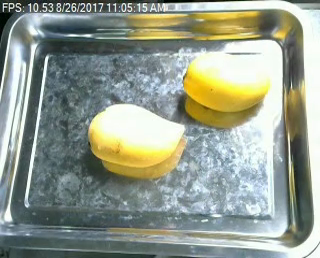Mango: (87, 100, 191, 174), (186, 48, 277, 117)
